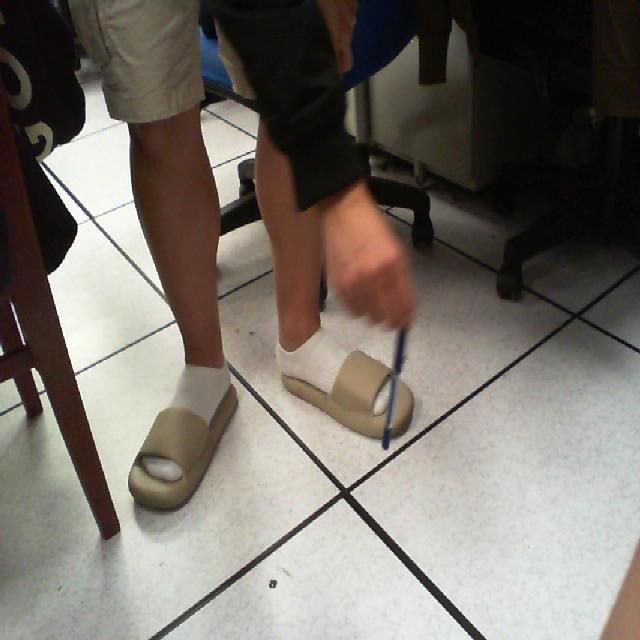Pen: (372, 258, 416, 487)
